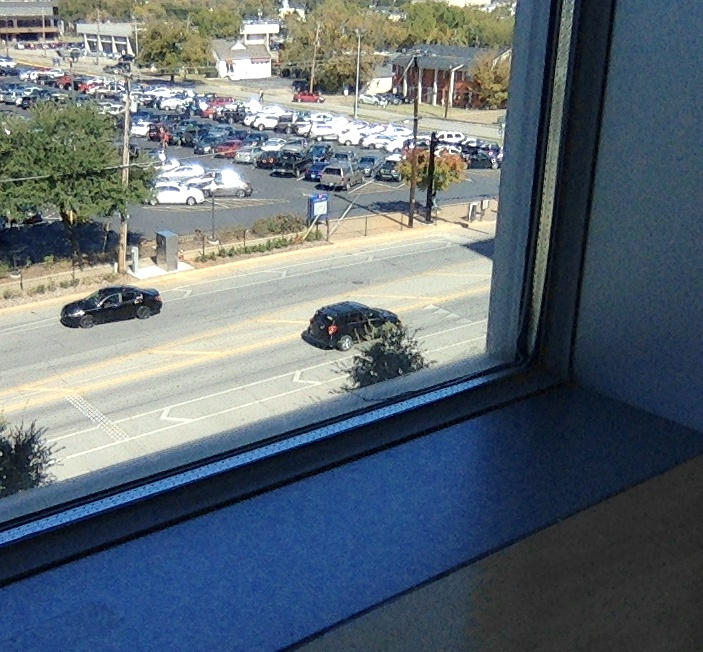car: (300, 300, 403, 352)
